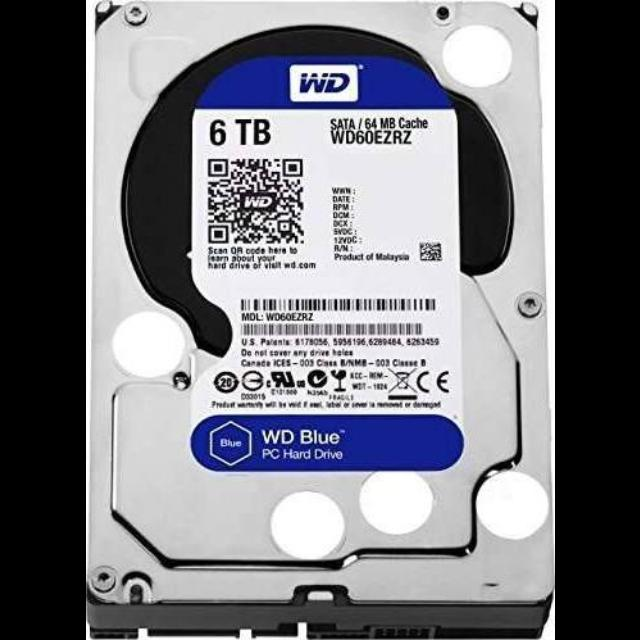HDD: (85, 0, 554, 640)
